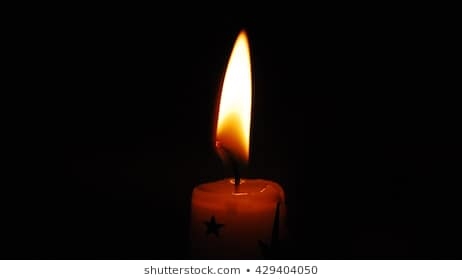Fire: (211, 29, 256, 160)
